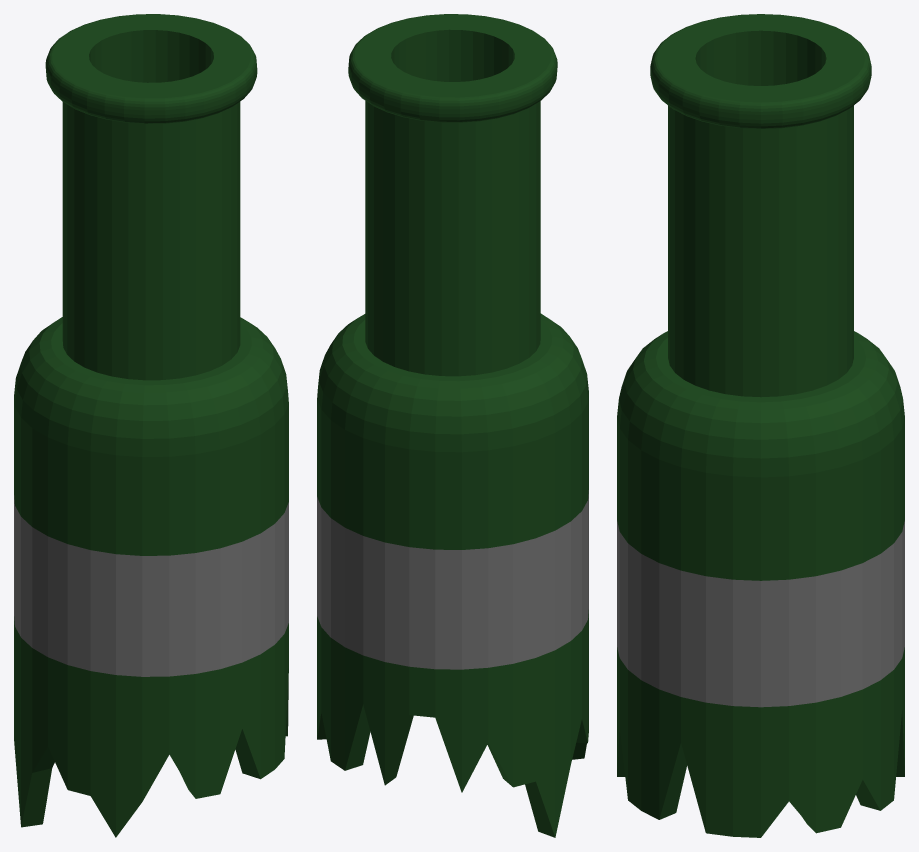
Rendered from bottle.fbx.
3 views of the same model, side by side, from view 1: azimuth 30°, elevation 25°; view 2: azimuth 150°, elevation 25°; view 3: azimuth 270°, elevation 25° (orthographic). The views are drawn at different scales.
Visible parts, largest first — view 1: Cylinder; view 2: Cylinder; view 3: Cylinder.
Part boxes in pixels (x1=…): Cylinder: x1=14, y1=14, x2=288, y2=837; Cylinder: x1=317, y1=14, x2=588, y2=837; Cylinder: x1=617, y1=14, x2=904, y2=837.
Size of the model in its own units: 200 by 603 by 200.
